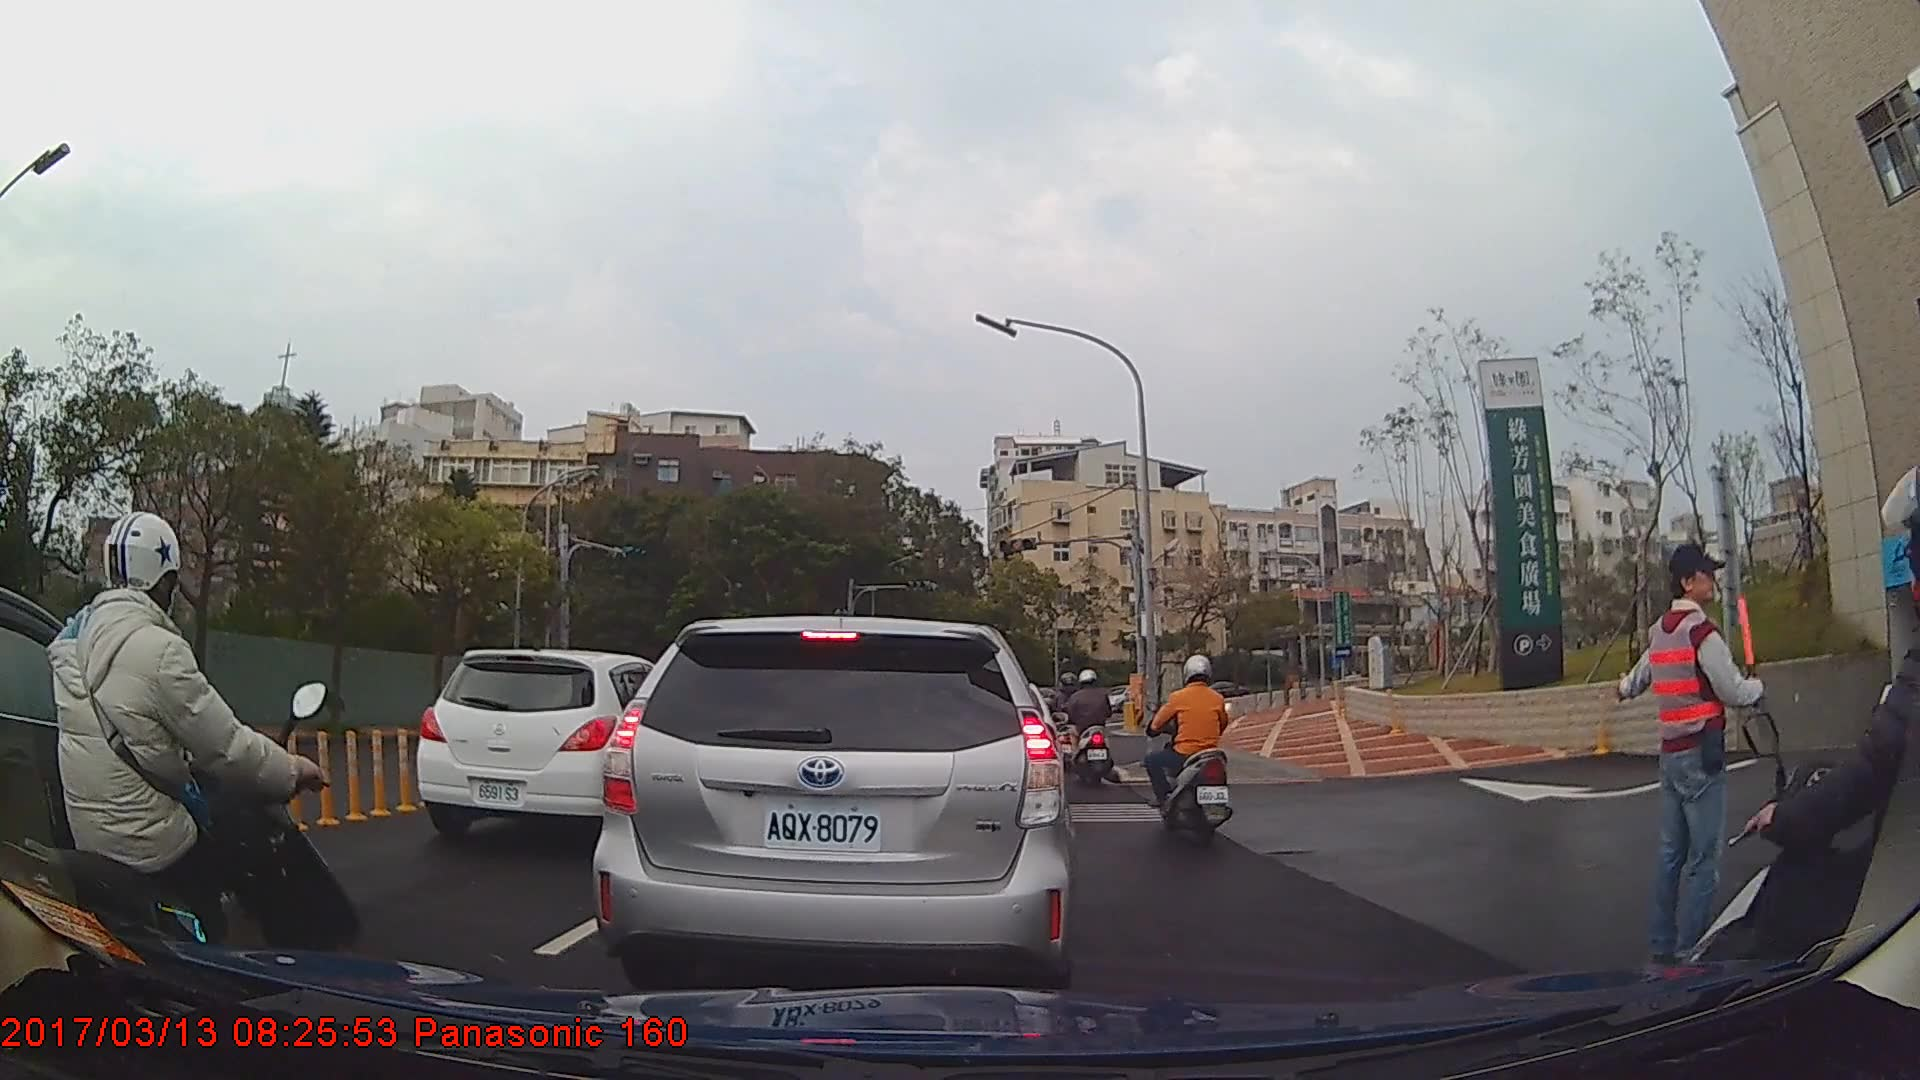pedestrian: (1613, 541, 1766, 977)
rider: (1, 512, 368, 1080), (1686, 464, 1920, 1080), (1143, 648, 1241, 845), (1065, 665, 1116, 791)
vehicle: (588, 615, 1074, 985), (416, 648, 705, 843)
